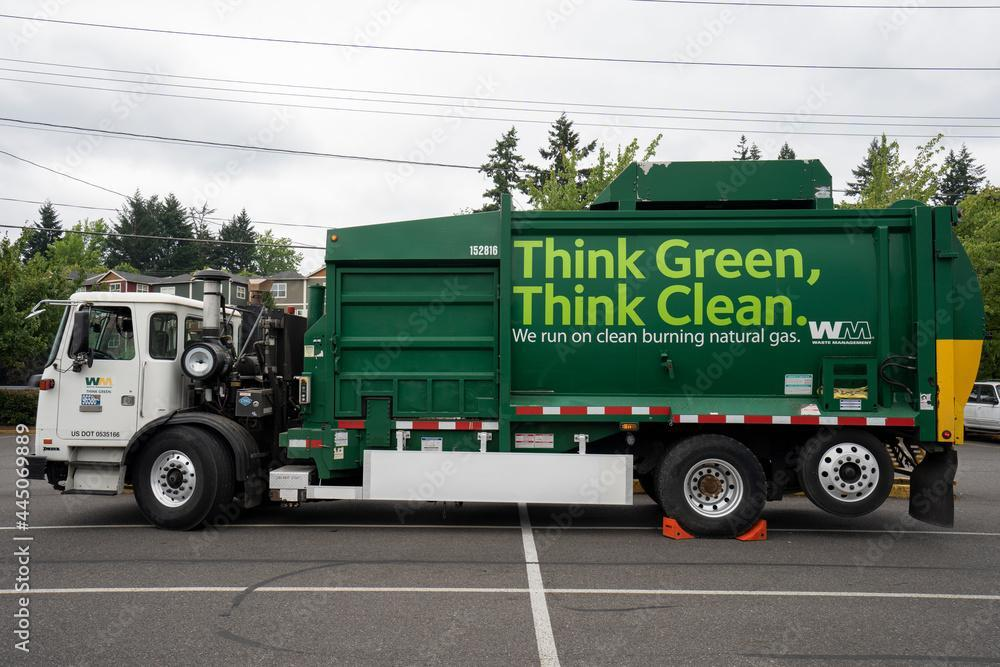truck: (40, 158, 987, 553)
